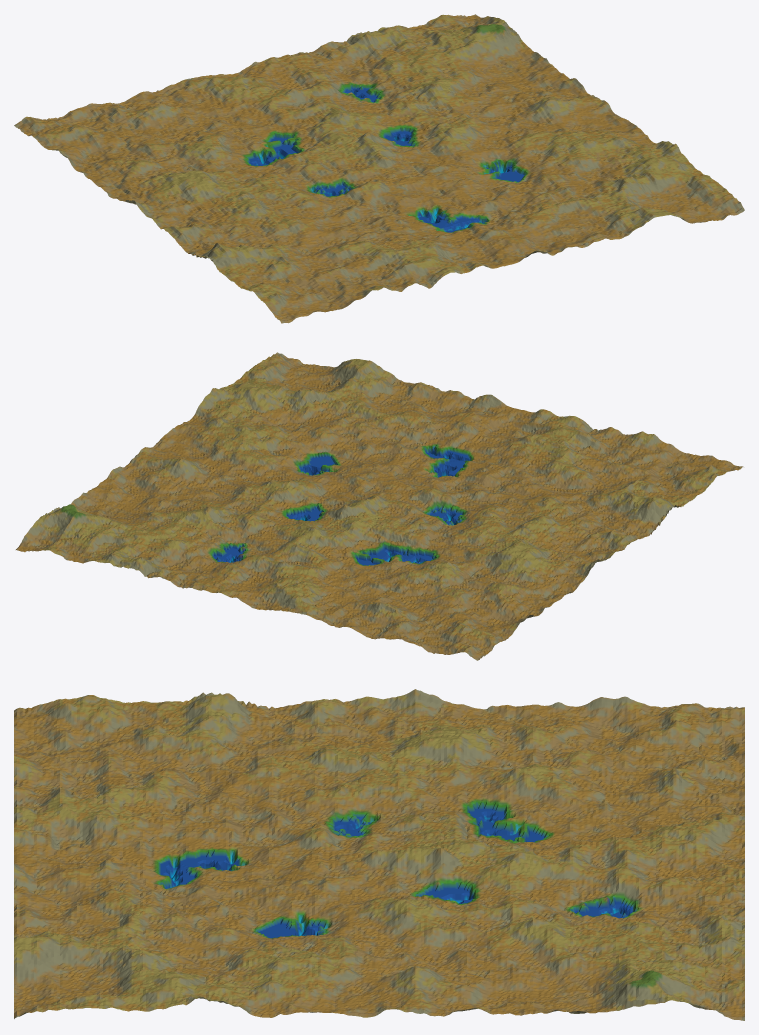
The model's file is terrain_WATER.obj.
3 views of the same model, one above another, from view 1: azimuth 30°, elevation 25°; view 2: azimuth 150°, elevation 25°; view 3: azimuth 270°, elevation 25° (orthographic). The views are drawn at different scales.
Parts seen in each view (by area): view 1: WATER; view 2: WATER; view 3: WATER.
Part boxes in pixels (<box>): WATER: <box>14,14,744,323</box>; WATER: <box>16,352,743,660</box>; WATER: <box>14,689,744,1020</box>.
Size of the model in its own units: 255 by 24.3 by 255.
Materials: 1 (1 with a texture image).
